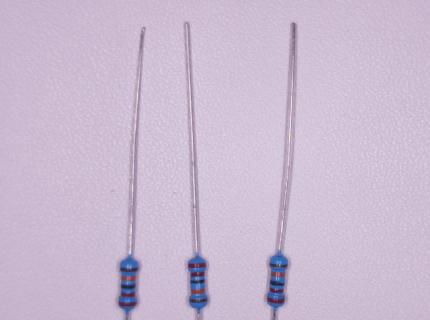Black band: (270, 280, 285, 286), (122, 284, 135, 288), (191, 280, 205, 283)
Brown band: (121, 268, 138, 272), (190, 299, 207, 302), (271, 264, 288, 267)
Orange band: (122, 276, 136, 281), (191, 289, 205, 294), (271, 272, 285, 277)
Red band: (267, 297, 285, 303), (120, 302, 137, 307), (189, 263, 206, 268), (270, 287, 284, 293), (122, 292, 136, 297), (191, 272, 205, 276)
